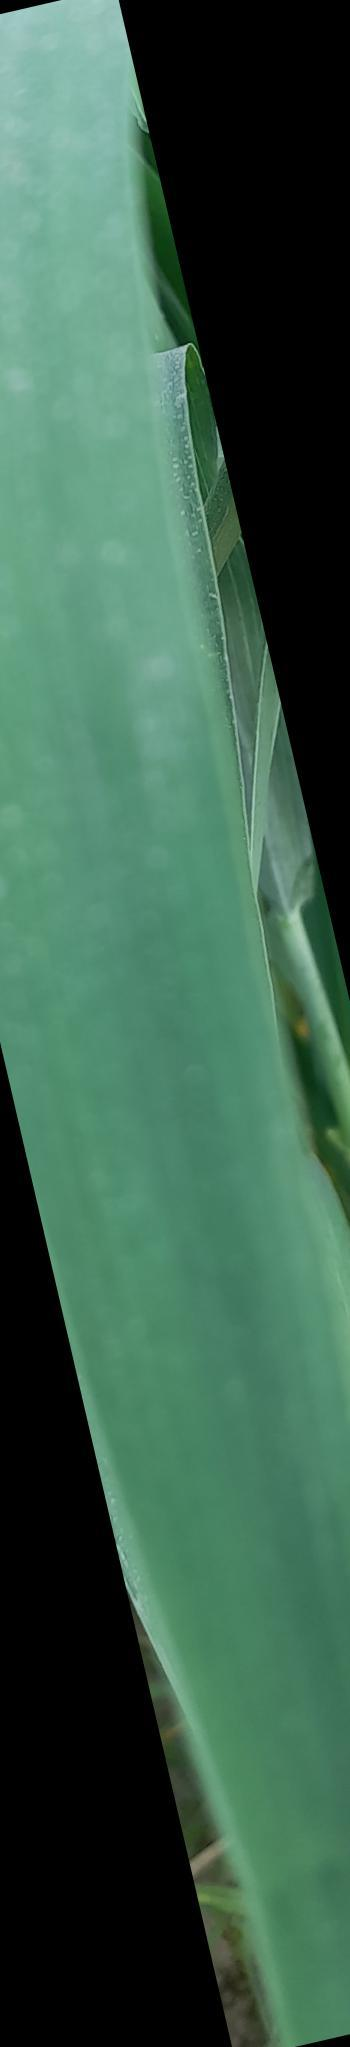Wheat: (129, 1430, 350, 2040), (74, 1004, 350, 1410), (4, 544, 255, 969), (9, 54, 141, 509)
